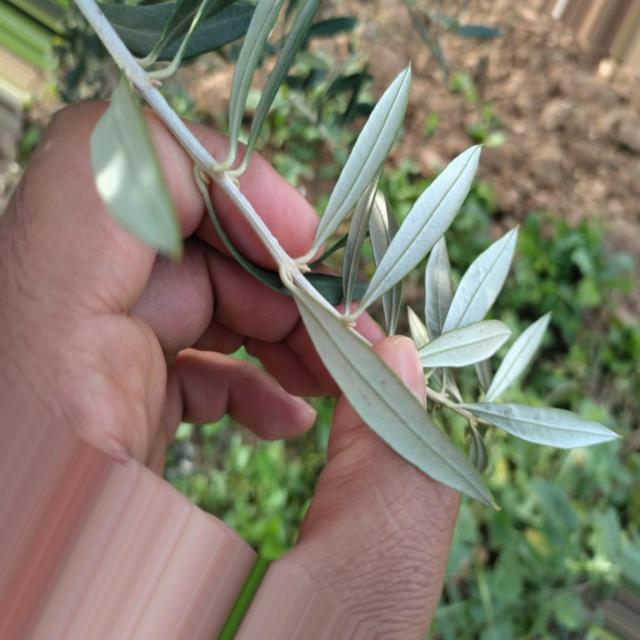Healthy: (283, 275, 499, 508), (361, 146, 481, 307), (311, 65, 411, 250), (441, 226, 518, 334), (457, 403, 619, 449), (415, 320, 511, 377)
